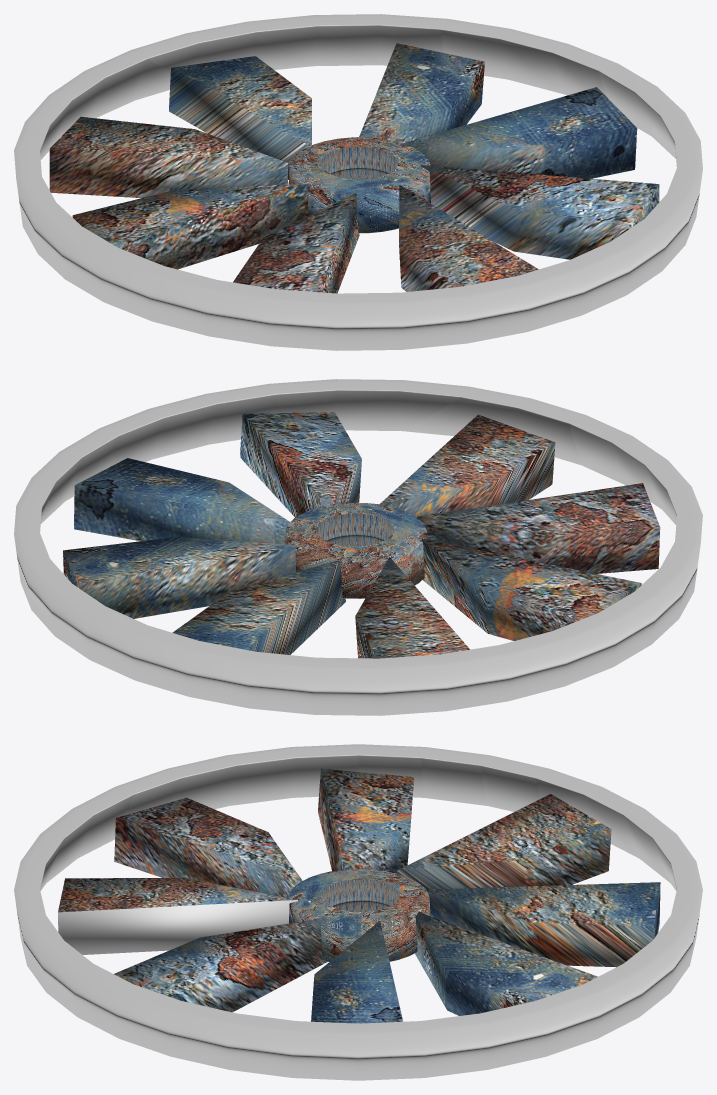
File: ventilador_industrial.fbx
3 renders of one model, top to bottom at view 1: azimuth 30°, elevation 25°; view 2: azimuth 150°, elevation 25°; view 3: azimuth 270°, elevation 25°, orthographic.
Parts seen in each view (by area): view 1: Cube_002, Sphere_001, Sphere; view 2: Cube_002, Sphere_001, Sphere; view 3: Cube_002, Sphere_001, Sphere, Cube_004.
Part boxes in pixels (x1=…): Cube_002: x1=49, y1=43, x2=659, y2=293; Sphere_001: x1=14, y1=14, x2=702, y2=350; Sphere: x1=288, y1=137, x2=430, y2=233; Cube_002: x1=63, y1=412, x2=660, y2=658; Sphere_001: x1=14, y1=379, x2=702, y2=715; Sphere: x1=285, y1=502, x2=427, y2=598; Cube_002: x1=58, y1=768, x2=660, y2=1023; Sphere_001: x1=14, y1=744, x2=702, y2=1080; Sphere: x1=288, y1=869, x2=430, y2=961; Cube_004: x1=58, y1=900, x2=297, y2=954.
Size of the model in its own units: 10.69 by 1.01 by 10.69.
